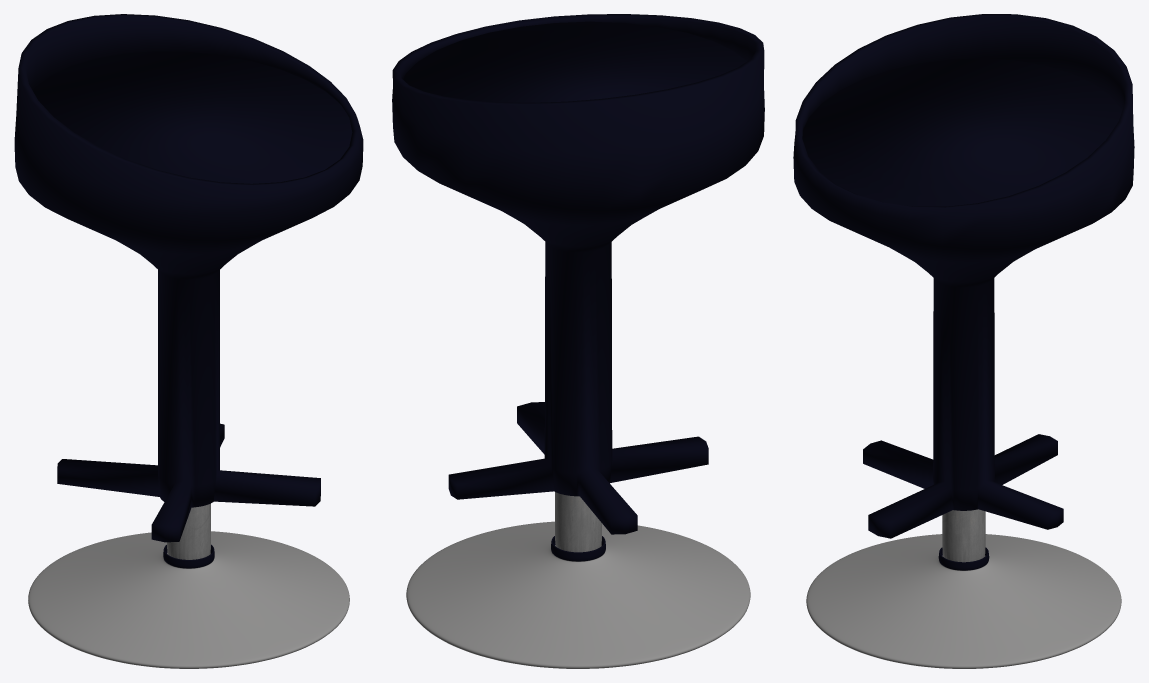
The model's file is modern_chair.glb.
3 views of the same model, side by side, from view 1: azimuth 30°, elevation 25°; view 2: azimuth 150°, elevation 25°; view 3: azimuth 270°, elevation 25° (orthographic). The views are drawn at different scales.
Parts seen in each view (by area): view 1: chair_base, base, stand; view 2: chair_base, base, stand; view 3: chair_base, base, stand.
Boxes of the visible parts, x1,y1,x2,y2 form: chair_base: (14, 14, 363, 542); base: (28, 531, 349, 668); stand: (167, 503, 210, 559); chair_base: (392, 14, 764, 534); base: (406, 521, 750, 668); stand: (555, 492, 601, 552); chair_base: (793, 14, 1134, 538); base: (806, 534, 1121, 668); stand: (942, 509, 985, 562).
Size of the model in its own units: 69.12 by 118 by 69.11.
2 materials, 1 textured.
